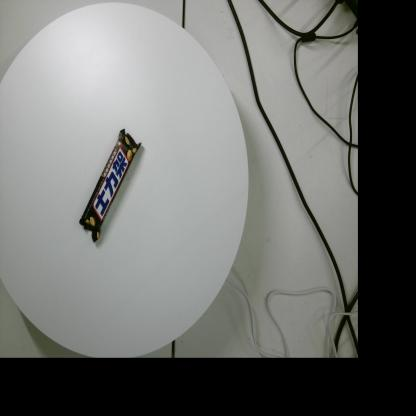Chocolate: (79, 128, 142, 242)
